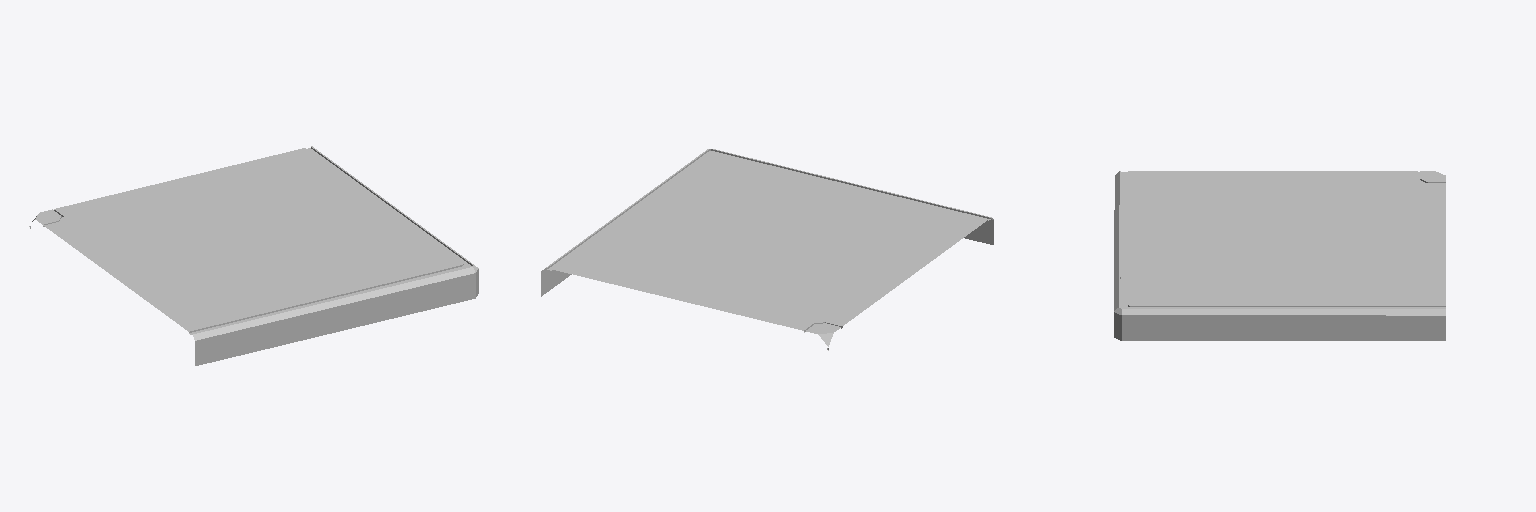
File: SidewalkCornerStraight.obj
The picture shows the model from 3 angles: view 1: azimuth 30°, elevation 25°; view 2: azimuth 150°, elevation 25°; view 3: azimuth 270°, elevation 25°; orthographic projection.
Parts seen in each view (by area): view 1: SidewalkCornerStraight_PavementSquare.008; view 2: SidewalkCornerStraight_PavementSquare.008; view 3: SidewalkCornerStraight_PavementSquare.008.
Part boxes in pixels (x1,y1,x2,y2): SidewalkCornerStraight_PavementSquare.008: (29, 146, 478, 365); SidewalkCornerStraight_PavementSquare.008: (541, 149, 993, 350); SidewalkCornerStraight_PavementSquare.008: (1114, 171, 1445, 340).
Size of the model in its own units: 2 by 0.2 by 2.01.